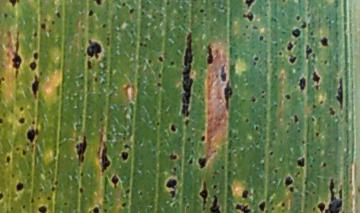tarspot: (180, 31, 196, 120), (326, 175, 344, 213), (12, 30, 22, 80), (74, 134, 89, 164), (99, 140, 111, 175), (197, 177, 209, 207), (85, 38, 102, 59), (336, 77, 346, 111), (29, 73, 41, 97), (204, 41, 215, 66), (223, 81, 233, 108), (24, 127, 41, 142), (209, 194, 222, 213), (217, 63, 228, 84), (233, 201, 252, 213), (163, 175, 178, 190), (196, 154, 209, 170), (109, 173, 122, 188), (302, 43, 314, 59), (290, 26, 303, 40), (282, 172, 294, 187), (310, 69, 322, 84), (119, 147, 130, 163), (295, 155, 307, 169), (241, 11, 255, 23), (256, 198, 267, 213), (298, 75, 307, 92), (241, 1, 259, 9), (83, 59, 94, 72), (14, 180, 25, 193), (27, 59, 38, 72), (16, 114, 27, 127), (36, 202, 48, 213), (318, 36, 329, 48), (196, 5, 208, 16), (316, 200, 326, 213), (77, 184, 87, 197), (292, 111, 300, 127), (126, 5, 135, 19), (85, 8, 96, 19), (167, 151, 178, 162), (287, 54, 298, 65), (210, 180, 221, 191), (168, 122, 178, 134), (182, 116, 192, 128), (286, 186, 299, 195), (4, 152, 12, 166), (39, 19, 47, 33), (21, 145, 29, 159), (241, 187, 249, 201), (294, 12, 302, 26), (198, 133, 208, 144), (248, 93, 258, 104), (167, 58, 177, 69), (154, 79, 164, 90), (90, 75, 101, 85), (284, 91, 293, 103), (27, 118, 39, 127), (186, 155, 194, 168), (327, 105, 335, 118), (256, 33, 266, 43), (30, 29, 40, 39), (30, 51, 41, 60), (91, 204, 102, 213), (156, 54, 165, 65), (320, 159, 329, 170), (11, 145, 22, 154), (218, 162, 227, 173), (253, 52, 260, 66), (54, 10, 62, 22), (313, 129, 321, 141), (16, 105, 26, 114), (168, 189, 177, 199), (48, 185, 58, 194), (171, 164, 179, 175), (154, 71, 165, 79), (120, 199, 127, 211), (7, 1, 19, 8), (1, 12, 11, 20), (122, 187, 132, 195), (1, 190, 7, 203), (100, 20, 107, 31), (279, 200, 287, 209), (29, 196, 36, 206), (94, 1, 105, 7), (1, 75, 7, 84), (1, 116, 5, 127)
